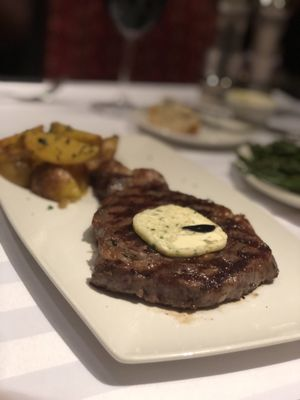curry: (0, 65, 300, 400)
sandwich: (104, 0, 168, 83)
